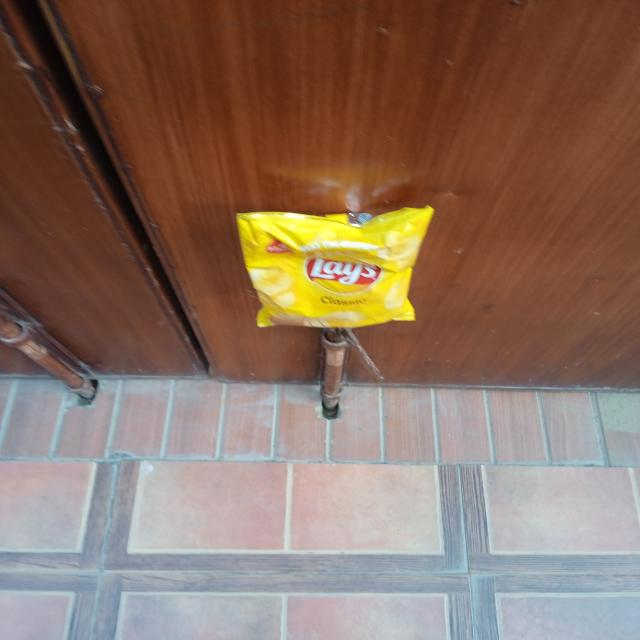Plastic: (234, 208, 431, 330)
